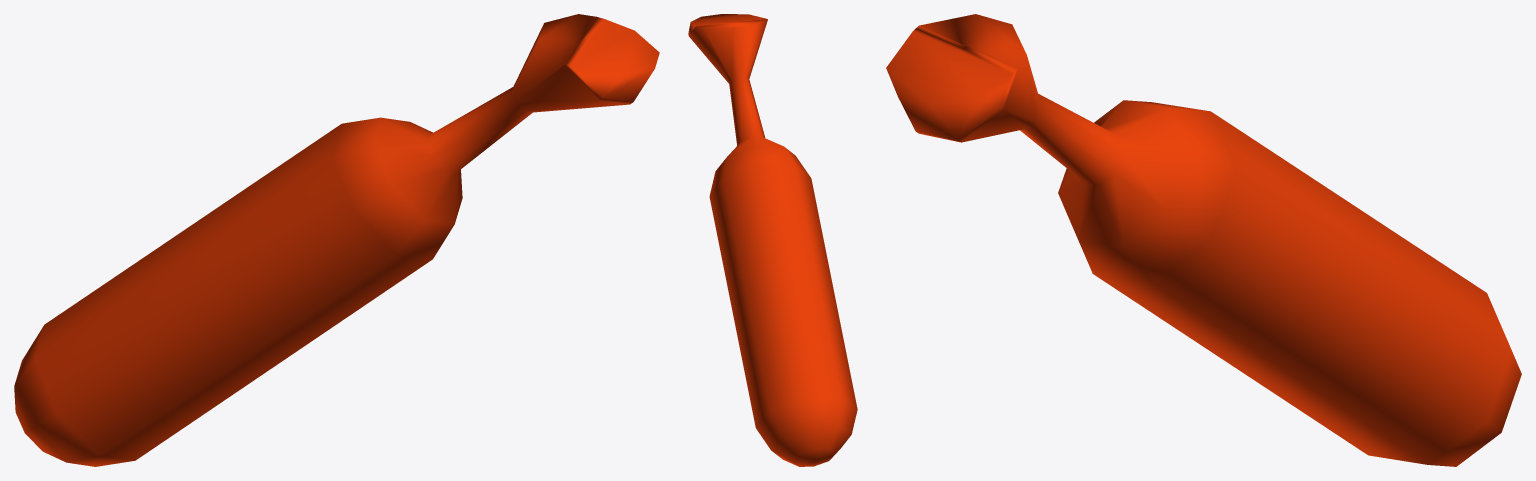
The model's file is mesh_item_sanityrest_big2.fbx.
3 views of the same model, side by side, from view 1: azimuth 30°, elevation 25°; view 2: azimuth 150°, elevation 25°; view 3: azimuth 270°, elevation 25° (orthographic). The views are drawn at different scales.
Visible parts, largest first — view 1: item_sanityrest_big2; view 2: item_sanityrest_big2; view 3: item_sanityrest_big2.
Part boxes in pixels (x1=…): item_sanityrest_big2: x1=14, y1=14, x2=659, y2=466; item_sanityrest_big2: x1=688, y1=14, x2=857, y2=466; item_sanityrest_big2: x1=886, y1=14, x2=1521, y2=466.
Size of the model in its own units: 7.53 by 8.19 by 7.79.
